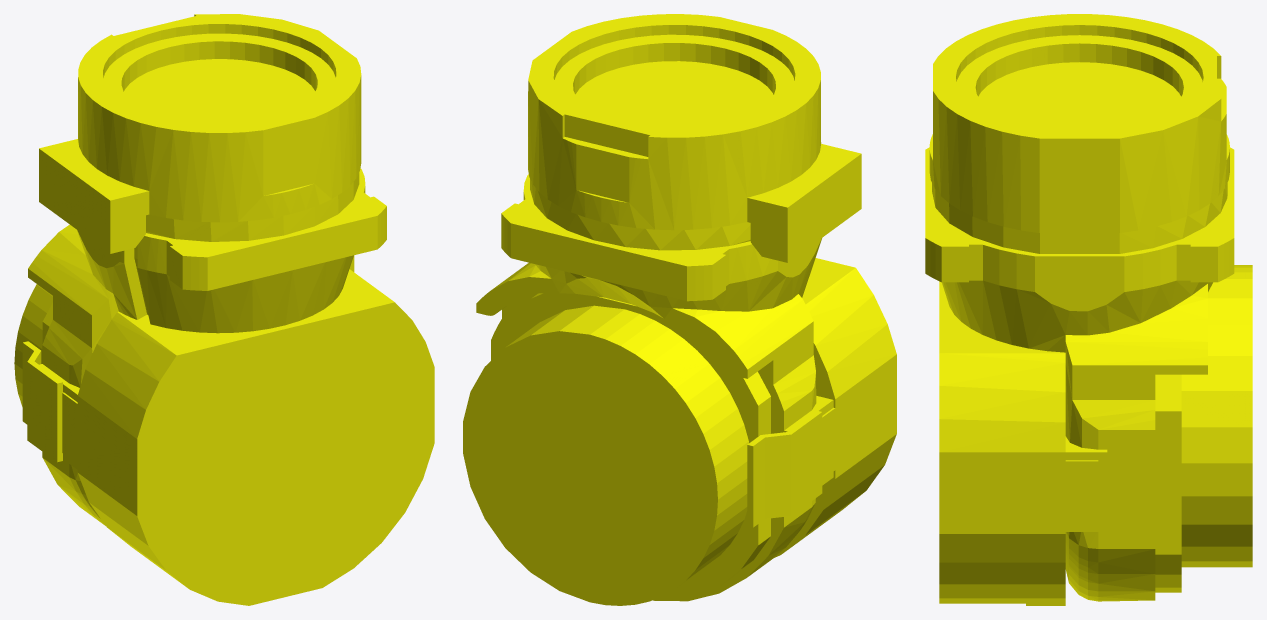
The picture shows the model from 3 angles, left to right: view 1: azimuth 30°, elevation 25°; view 2: azimuth 150°, elevation 25°; view 3: azimuth 270°, elevation 25°; orthographic projection. The views are drawn at different scales.
Visible parts, largest first — view 1: node; view 2: node; view 3: node.
Boxes of the visible parts, left/top/right/bottom form: node: left=14, top=14, right=434, bottom=605; node: left=463, top=14, right=896, bottom=605; node: left=925, top=14, right=1252, bottom=605.
Size of the model in its own units: 168 by 266 by 149.
